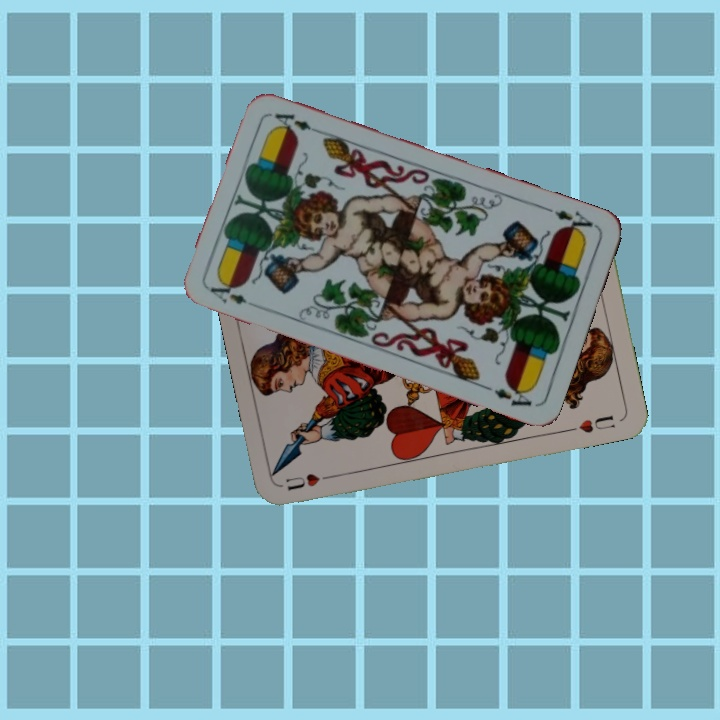EA: (550, 206, 598, 238), (206, 278, 250, 308)
HU: (282, 469, 338, 493)
